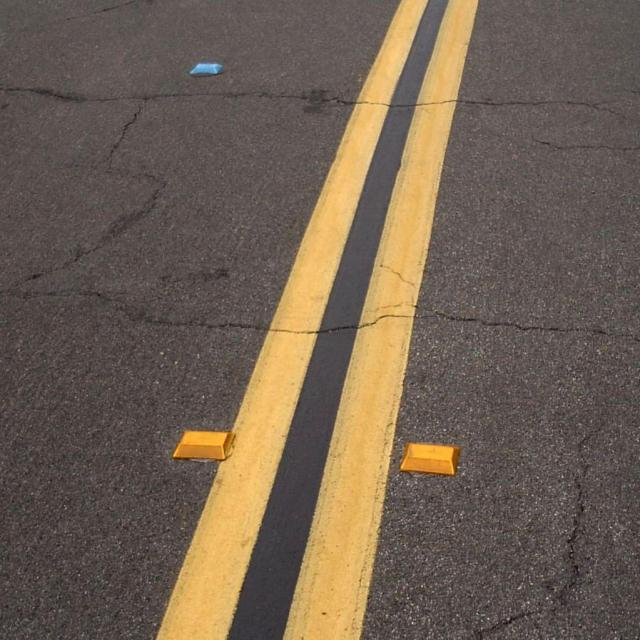other: (409, 431, 460, 478), (182, 428, 232, 462)
